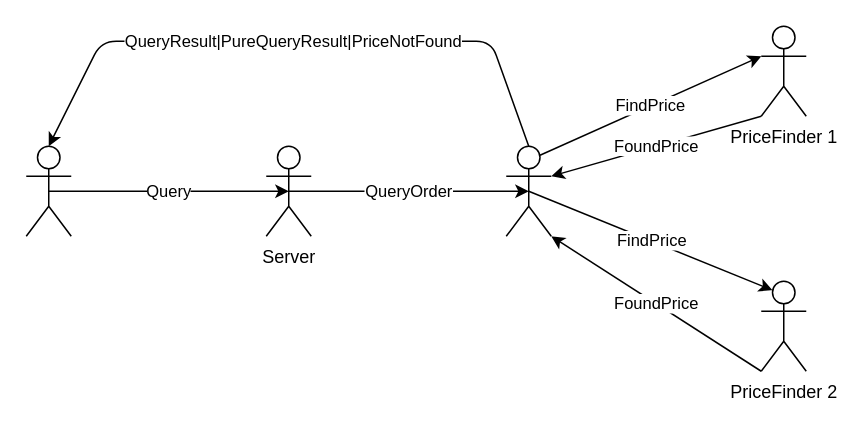
The diagram is 863 pixels wide and 429 high, and some of its shapes have lost their labels. Here are the shapes that lost their labels. From the top down, the centre of each, then its label:
At (x=48, y=190): "Client".
At (x=528, y=190): "Worker".
